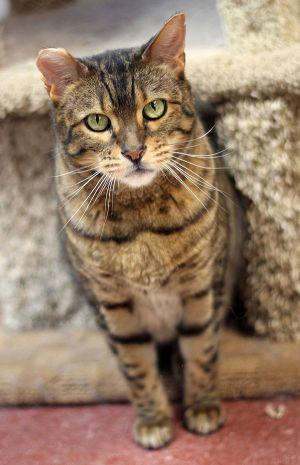bengal: (29, 2, 219, 206)
